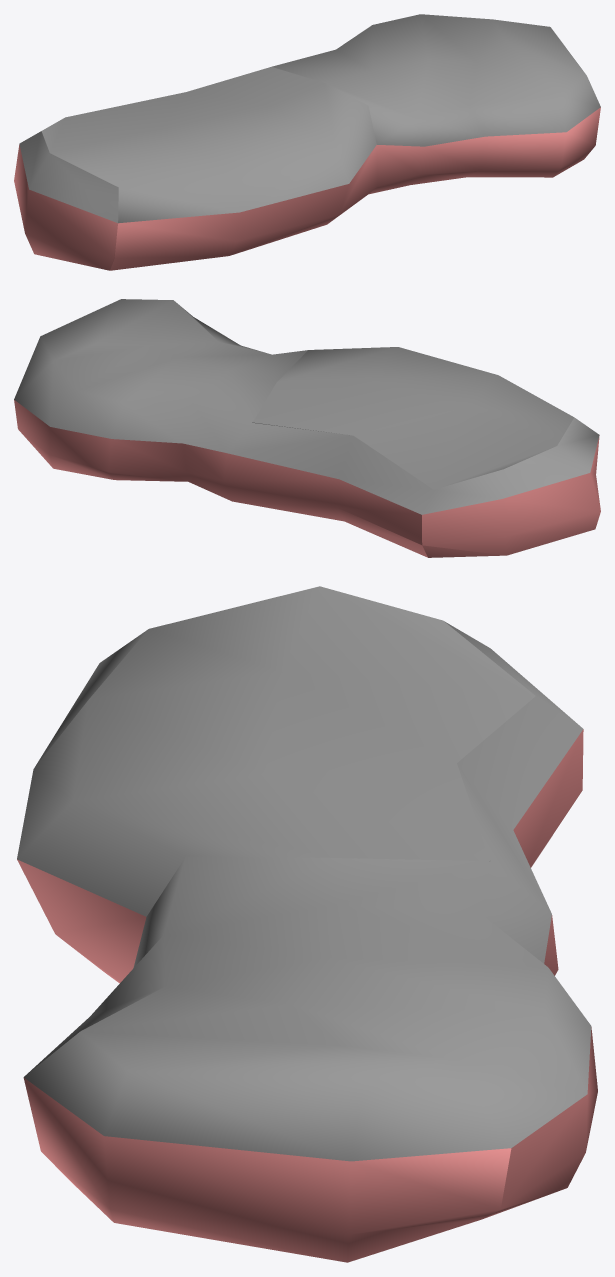
File: waterfall_rock_6.gltf
The picture shows the model from 3 angles, top to bottom: view 1: azimuth 30°, elevation 25°; view 2: azimuth 150°, elevation 25°; view 3: azimuth 270°, elevation 25°; orthographic projection. The views are drawn at different scales.
Parts seen in each view (by area): view 1: waterfall_rock_6; view 2: waterfall_rock_6; view 3: waterfall_rock_6.
Part boxes in pixels (x1=…): waterfall_rock_6: x1=14, y1=14, x2=600, y2=270; waterfall_rock_6: x1=14, y1=299, x2=600, y2=557; waterfall_rock_6: x1=17, y1=586, x2=597, y2=1262.
Size of the model in its own units: 5.4 by 0.942 by 2.46.
